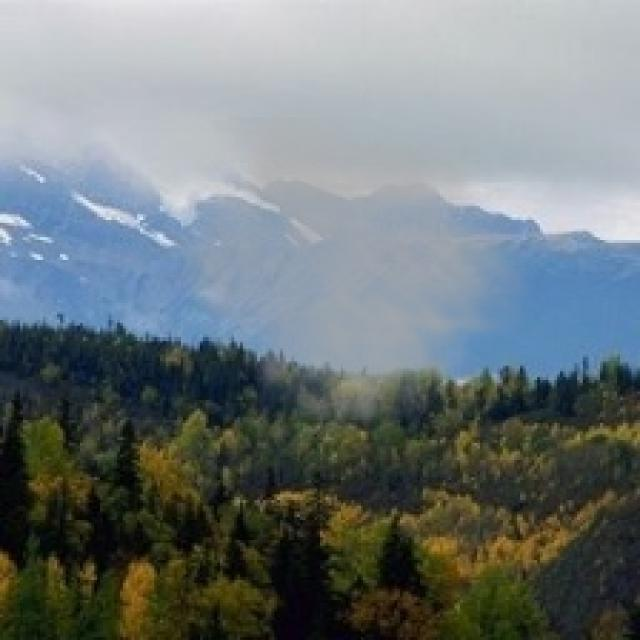smoke: (154, 117, 546, 460)
